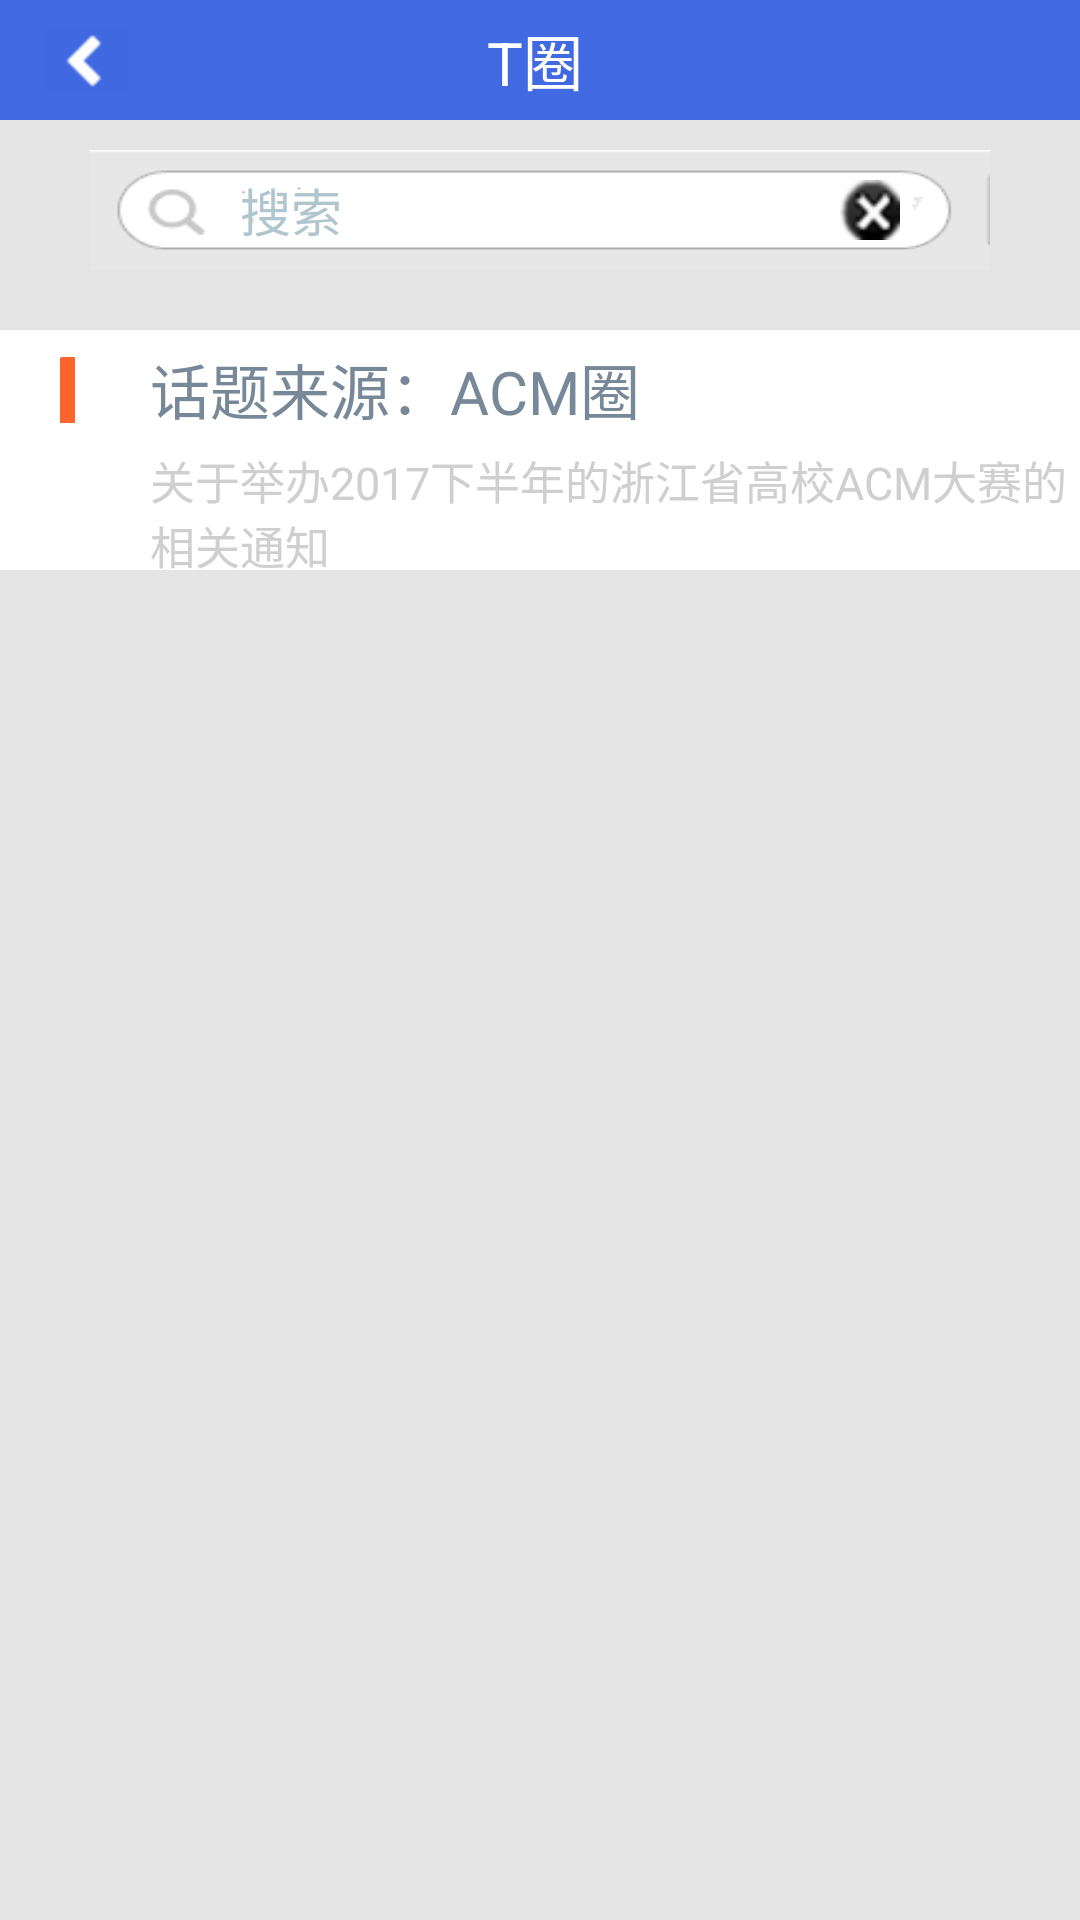

Where to tap for icons on this 1080*1920 app screen, as point (x, y):
backward: point (84, 61)
delete: point (870, 210)
